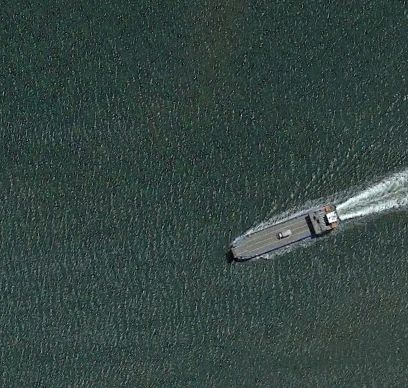boat: (228, 203, 342, 263)
